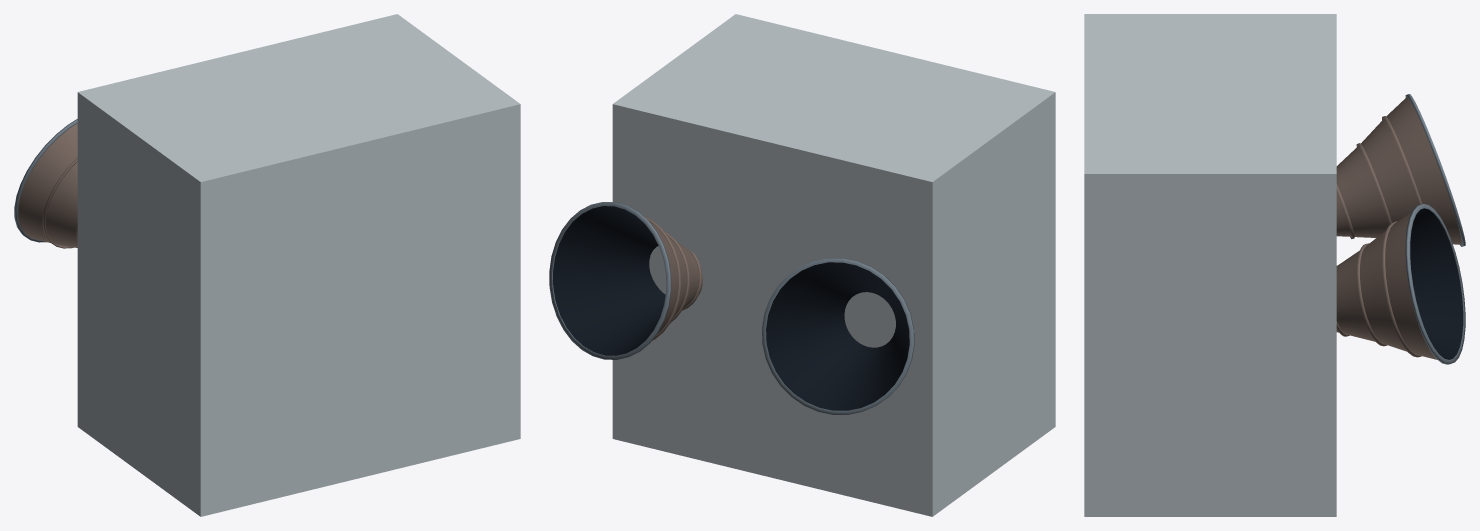
The model's file is dart_propulsion.hydrazine_cluster_03.glb.
The picture shows the model from 3 angles, left to right: view 1: azimuth 30°, elevation 25°; view 2: azimuth 150°, elevation 25°; view 3: azimuth 270°, elevation 25°; orthographic projection. The views are drawn at different scales.
Parts seen in each view (by area): view 1: dart_propulsion.hydrazine_cluster_03.mesh_Satin_aluminum, dart_propulsion.hydrazine_cluster_03.thruster_01.bell.mesh_H, dart_propulsion.hydrazine_cluster_03.thruster_01.bell.mesh_M; view 2: dart_propulsion.hydrazine_cluster_03.mesh_Satin_aluminum, dart_propulsion.hydrazine_cluster_03.thruster_01.bell.mesh_S, dart_propulsion.hydrazine_cluster_03.thruster_02.bell.mesh_S, dart_propulsion.hydrazine_cluster_03.thruster_02.bell.mesh_H, dart_propulsion.hydrazine_cluster_03.thruster_01.bell.mesh_M, dart_propulsion.hydrazine_cluster_03.thruster_02.bell.mesh_M; view 3: dart_propulsion.hydrazine_cluster_03.mesh_Satin_aluminum, dart_propulsion.hydrazine_cluster_03.thruster_01.bell.mesh_H, dart_propulsion.hydrazine_cluster_03.thruster_02.bell.mesh_H, dart_propulsion.hydrazine_cluster_03.thruster_02.bell.mesh_S, dart_propulsion.hydrazine_cluster_03.thruster_02.bell.mesh_M, dart_propulsion.hydrazine_cluster_03.thruster_01.bell.mesh_M.
Boxes of the visible parts, x1,y1,x2,y2 form: dart_propulsion.hydrazine_cluster_03.mesh_Satin_aluminum: (77,14,520,516); dart_propulsion.hydrazine_cluster_03.thruster_01.bell.mesh_H: (18,123,77,248); dart_propulsion.hydrazine_cluster_03.thruster_01.bell.mesh_M: (14,119,77,242); dart_propulsion.hydrazine_cluster_03.mesh_Satin_aluminum: (612,14,1055,516); dart_propulsion.hydrazine_cluster_03.thruster_01.bell.mesh_S: (766,262,909,410); dart_propulsion.hydrazine_cluster_03.thruster_02.bell.mesh_S: (553,206,665,355); dart_propulsion.hydrazine_cluster_03.thruster_02.bell.mesh_H: (643,215,702,340); dart_propulsion.hydrazine_cluster_03.thruster_01.bell.mesh_M: (762,258,914,414); dart_propulsion.hydrazine_cluster_03.thruster_02.bell.mesh_M: (549,202,671,359); dart_propulsion.hydrazine_cluster_03.mesh_Satin_aluminum: (1084,14,1336,516); dart_propulsion.hydrazine_cluster_03.thruster_01.bell.mesh_H: (1336,97,1461,244); dart_propulsion.hydrazine_cluster_03.thruster_02.bell.mesh_H: (1336,212,1436,359); dart_propulsion.hydrazine_cluster_03.thruster_02.bell.mesh_S: (1410,208,1463,359); dart_propulsion.hydrazine_cluster_03.thruster_02.bell.mesh_M: (1405,204,1465,364); dart_propulsion.hydrazine_cluster_03.thruster_01.bell.mesh_M: (1405,94,1465,246).
Size of the model in its own units: 0.1868 by 0.165 by 0.1662.
